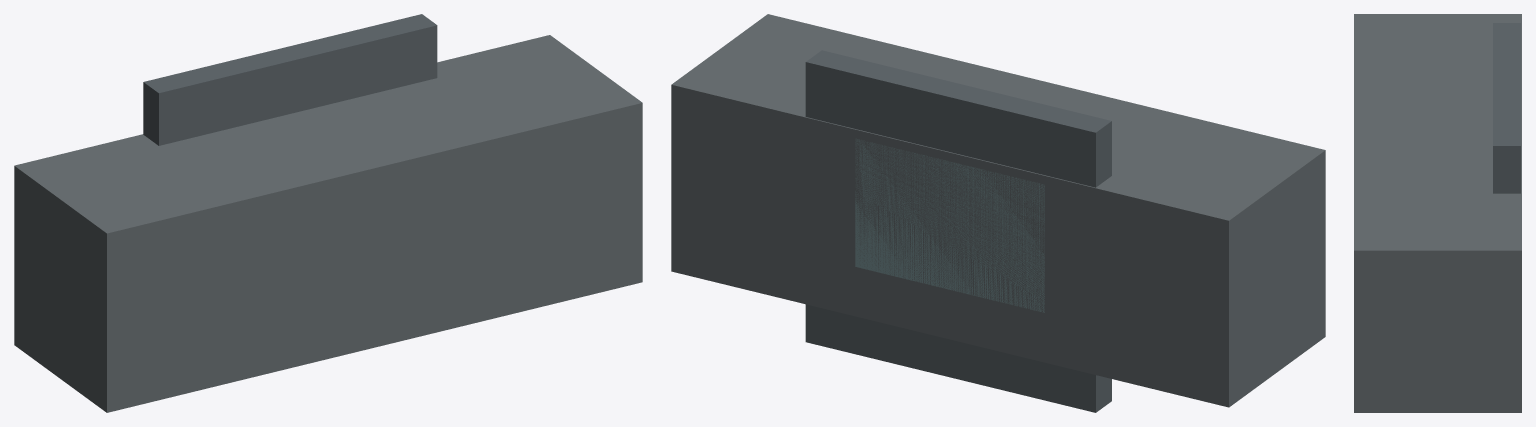
Rendered from iz3_production_pipe_01.glb.
3 renders of one model, left to right at view 1: azimuth 30°, elevation 25°; view 2: azimuth 150°, elevation 25°; view 3: azimuth 270°, elevation 25°, orthographic. The views are drawn at different scales.
Visible parts, largest first — view 1: base, panel; view 2: base, panel, display; view 3: base, panel.
Boxes of the visible parts, x1,y1,x2,y2 form: base: (14, 35, 642, 412); panel: (143, 14, 437, 145); base: (671, 14, 1325, 407); panel: (805, 50, 1111, 412); display: (855, 138, 1044, 312); base: (1354, 14, 1521, 412); panel: (1493, 23, 1520, 193).
Size of the model in its own units: 1 by 0.48 by 0.3.
